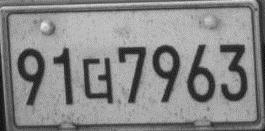1: (47, 43, 80, 107)
3: (219, 42, 247, 101)
6: (185, 43, 216, 101)
7: (117, 45, 149, 104)
9: (151, 43, 181, 103), (16, 47, 45, 106)
더: (82, 56, 114, 106)
